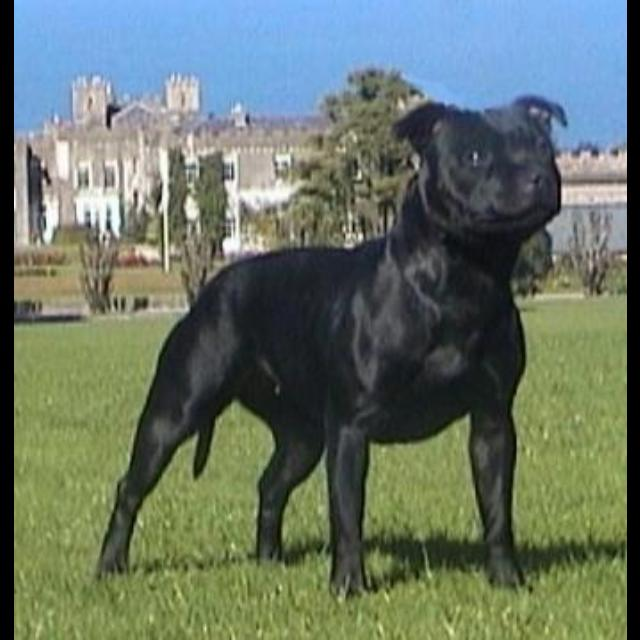staffford: (93, 94, 568, 602)
